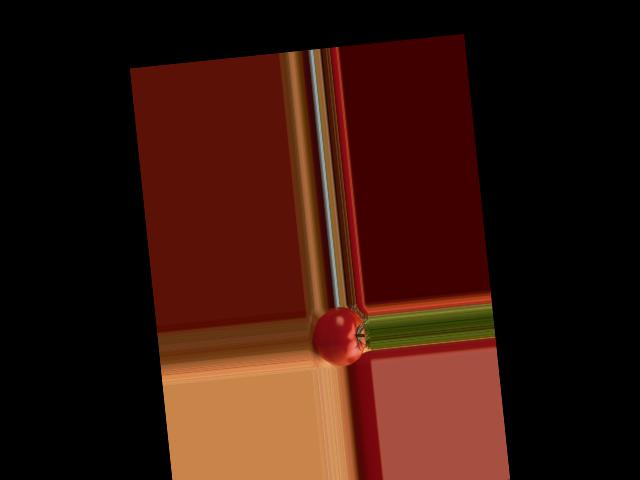tomato: (311, 305, 368, 369)
